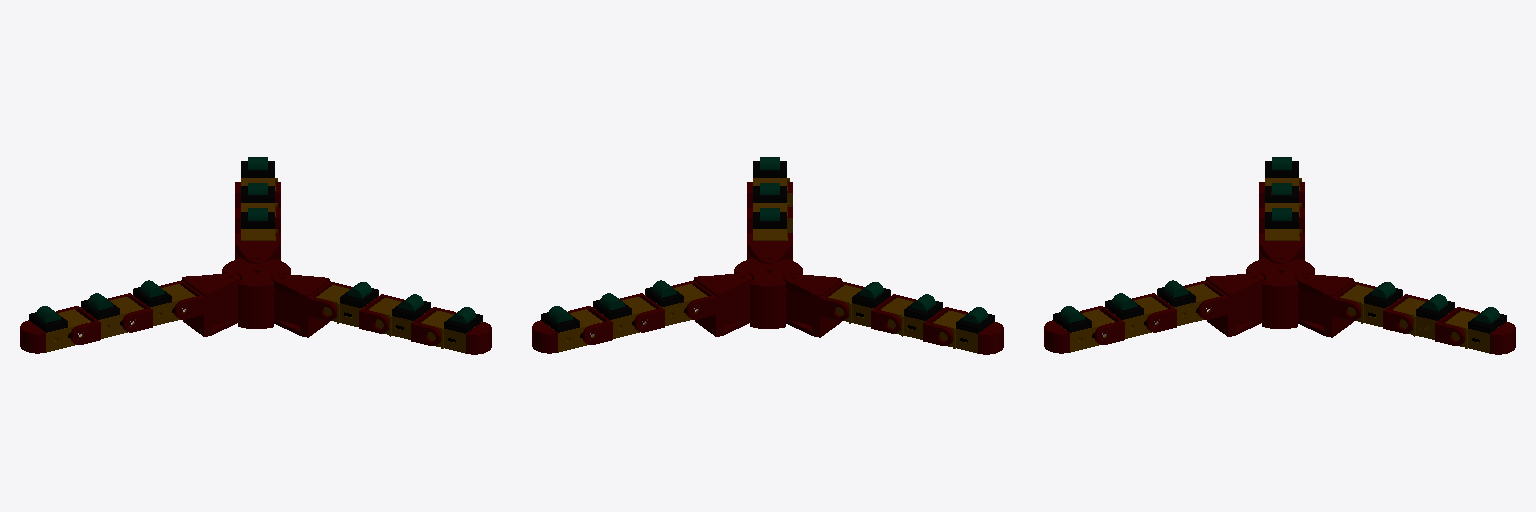
robot.urdf — Space_Gripper_URDF_DAE:
<?xml version="1.0" ?>
<robot name="Space_Gripper_URDF_DAE">

<link name="base_link">
  <inertial>
    <origin xyz="0.2824084412039216 -0.01747868073746133 -0.008955658350251127" rpy="0 0 0"/>
    <mass value="0.19686239672755595"/>
    <inertia ixx="0.00014285242604510797" iyy="0.00014289312332895626" izz="0.0002203151480814937" ixy="-1.4233796433171797e-13" iyz="-5.3266947601902925e-14" ixz="4.087505542588535e-09"/>
  </inertial>
  <visual>
    <origin xyz="0 0 0" rpy="0 0 0"/>
    <geometry>
      <mesh filename="meshes/base_link.dae" scale="0.001 0.001 0.001"/>

  </geometry>
</visual>
  <collision>
    <origin xyz="0 0 0" rpy="0 0 0"/>
    <geometry>
      <mesh filename="meshes/base_link.dae" scale="0.001 0.001 0.001"/>
    </geometry>
  </collision>
</link>

<link name="finger_link111">
  <inertial>
    <origin xyz="-0.018205227017697667 0.00015866735729531262 0.0019933440227124246" rpy="0 0 0"/>
    <mass value="0.058757815724503226"/>
    <inertia ixx="1.2086298377185494e-05" iyy="2.5715164283030044e-05" izz="2.879228567865405e-05" ixy="2.2279874047472035e-07" iyz="-5.4872261887554326e-08" ixz="1.5145439632609564e-06"/>
  </inertial>
  <visual>
    <origin xyz="-0.18625 0.015983 -0.002636" rpy="0 0 0"/>
    <geometry>
      <mesh filename="meshes/finger_link111.dae" scale="0.001 0.001 0.001"/>

  </geometry>
</visual>
  <collision>
    <origin xyz="-0.18625 0.015983 -0.002636" rpy="0 0 0"/>
    <geometry>
      <mesh filename="meshes/finger_link111.dae" scale="0.001 0.001 0.001"/>
    </geometry>
  </collision>
</link>

<link name="finger_link121">
  <inertial>
    <origin xyz="-0.01820463486106834 0.00015866628118000464 0.001993344022712669" rpy="0 0 0"/>
    <mass value="0.05875781572450322"/>
    <inertia ixx="1.2086298377186012e-05" iyy="2.571516428301183e-05" izz="2.8792285678610357e-05" ixy="2.2279874047543863e-07" iyz="-5.4872261887839776e-08" ixz="1.5145439632596588e-06"/>
  </inertial>
  <visual>
    <origin xyz="-0.12573 0.015983 -0.002636" rpy="0 0 0"/>
    <geometry>
      <mesh filename="meshes/finger_link121.dae" scale="0.001 0.001 0.001"/>

  </geometry>
</visual>
  <collision>
    <origin xyz="-0.12573 0.015983 -0.002636" rpy="0 0 0"/>
    <geometry>
      <mesh filename="meshes/finger_link121.dae" scale="0.001 0.001 0.001"/>
    </geometry>
  </collision>
</link>

<link name="finger_link311">
  <inertial>
    <origin xyz="0.009239967439434893 0.015687081058691682 0.0019933440227124254" rpy="0 0 0"/>
    <mass value="0.058757815724503115"/>
    <inertia ixx="2.2114998447879657e-05" iyy="1.5686464226054297e-05" izz="2.8792285692595156e-05" ixy="-6.012871425806199e-06" iyz="-1.2841974334595889e-06" ixz="-8.047927642447679e-07"/>
  </inertial>
  <visual>
    <origin xyz="-0.331752 -0.065031 -0.002636" rpy="0 0 0"/>
    <geometry>
      <mesh filename="meshes/finger_link311.dae" scale="0.001 0.001 0.001"/>

  </geometry>
</visual>
  <collision>
    <origin xyz="-0.331752 -0.065031 -0.002636" rpy="0 0 0"/>
    <geometry>
      <mesh filename="meshes/finger_link311.dae" scale="0.001 0.001 0.001"/>
    </geometry>
  </collision>
</link>

<link name="finger_link321">
  <inertial>
    <origin xyz="0.009239670429177227 0.015686426211100155 0.001993344022712691" rpy="0 0 0"/>
    <mass value="0.05875781572450316"/>
    <inertia ixx="2.2114998447879657e-05" iyy="1.5686464226057767e-05" izz="2.8792285692599492e-05" ixy="-6.0128714258079335e-06" iyz="-1.2841974334595448e-06" ixz="-8.047927642447679e-07"/>
  </inertial>
  <visual>
    <origin xyz="-0.362012 -0.117443 -0.002636" rpy="0 0 0"/>
    <geometry>
      <mesh filename="meshes/finger_link321.dae" scale="0.001 0.001 0.001"/>

  </geometry>
</visual>
  <collision>
    <origin xyz="-0.362012 -0.117443 -0.002636" rpy="0 0 0"/>
    <geometry>
      <mesh filename="meshes/finger_link321.dae" scale="0.001 0.001 0.001"/>
    </geometry>
  </collision>
</link>

<link name="finger_link211">
  <inertial>
    <origin xyz="0.008964553001198305 -0.0158457897051294 0.001993344022712414" rpy="0 0 0"/>
    <mass value="0.05875781572450313"/>
    <inertia ixx="2.250089717573448e-05" iyy="1.530056548438609e-05" izz="2.8792285678780685e-05" ixy="5.7900726794343944e-06" iyz="1.3390696782788821e-06" ixz="-7.097512088737208e-07"/>
  </inertial>
  <visual>
    <origin xyz="-0.329162 0.101484 -0.002636" rpy="0 0 0"/>
    <geometry>
      <mesh filename="meshes/finger_link211.dae" scale="0.001 0.001 0.001"/>

  </geometry>
</visual>
  <collision>
    <origin xyz="-0.329162 0.101484 -0.002636" rpy="0 0 0"/>
    <geometry>
      <mesh filename="meshes/finger_link211.dae" scale="0.001 0.001 0.001"/>
    </geometry>
  </collision>
</link>

<link name="finger_link221">
  <inertial>
    <origin xyz="0.008965257854827213 -0.01584513378142255 0.0019933440227126796" rpy="0 0 0"/>
    <mass value="0.05875781572450321"/>
    <inertia ixx="2.250089717573448e-05" iyy="1.530056548438609e-05" izz="2.879228567878242e-05" ixy="5.790072679435262e-06" iyz="1.3390696782788347e-06" ixz="-7.097512088737615e-07"/>
  </inertial>
  <visual>
    <origin xyz="-0.359421 0.153896 -0.002636" rpy="0 0 0"/>
    <geometry>
      <mesh filename="meshes/finger_link221.dae" scale="0.001 0.001 0.001"/>

  </geometry>
</visual>
  <collision>
    <origin xyz="-0.359421 0.153896 -0.002636" rpy="0 0 0"/>
    <geometry>
      <mesh filename="meshes/finger_link221.dae" scale="0.001 0.001 0.001"/>
    </geometry>
  </collision>
</link>

<link name="palm_link11">
  <inertial>
    <origin xyz="-0.033808036955607745 0.0003209242466304836 0.004859626131341327" rpy="0 0 0"/>
    <mass value="0.04512002505288437"/>
    <inertia ixx="1.955569656739964e-05" iyy="2.2266615430205448e-05" izz="1.8449937761857993e-05" ixy="2.5455755867535086e-07" iyz="-1.2175243086354105e-07" ixz="8.540751990812511e-07"/>
  </inertial>
  <visual>
    <origin xyz="-0.252173 0.016479 0.010014" rpy="0 0 0"/>
    <geometry>
      <mesh filename="meshes/palm_link11.dae" scale="0.001 0.001 0.001"/>

  </geometry>
</visual>
  <collision>
    <origin xyz="-0.252173 0.016479 0.010014" rpy="0 0 0"/>
    <geometry>
      <mesh filename="meshes/palm_link11.dae" scale="0.001 0.001 0.001"/>
    </geometry>
  </collision>
</link>

<link name="palm_link31">
  <inertial>
    <origin xyz="0.017181842395234237 0.029118389688091016 0.00485962613541978" rpy="0 0 0"/>
    <mass value="0.04512002511118017"/>
    <inertia ixx="2.136843242511441e-05" iyy="2.0453879616765848e-05" izz="1.8449937789699437e-05" ixy="-1.3011410833712158e-06" iyz="-6.787746076151967e-07" ixz="-5.324782961754261e-07"/>
  </inertial>
  <visual>
    <origin xyz="-0.298361 -0.008188 0.010014" rpy="0 0 0"/>
    <geometry>
      <mesh filename="meshes/palm_link31.dae" scale="0.001 0.001 0.001"/>

  </geometry>
</visual>
  <collision>
    <origin xyz="-0.298361 -0.008188 0.010014" rpy="0 0 0"/>
    <geometry>
      <mesh filename="meshes/palm_link31.dae" scale="0.001 0.001 0.001"/>
    </geometry>
  </collision>
</link>

<link name="palm_link21">
  <inertial>
    <origin xyz="0.016626487983982474 -0.029438355242833773 0.004859626135419766" rpy="0 0 0"/>
    <mass value="0.04512002511118007"/>
    <inertia ixx="2.180933905096083e-05" iyy="2.0012972990917678e-05" izz="1.8449937789695968e-05" ixy="1.0465835242510439e-06" iyz="8.005270352593836e-07" ixz="-3.215969055509328e-07"/>
  </inertial>
  <visual>
    <origin xyz="-0.296629 0.044146 0.010014" rpy="0 0 0"/>
    <geometry>
      <mesh filename="meshes/palm_link21.dae" scale="0.001 0.001 0.001"/>

  </geometry>
</visual>
  <collision>
    <origin xyz="-0.296629 0.044146 0.010014" rpy="0 0 0"/>
    <geometry>
      <mesh filename="meshes/palm_link21.dae" scale="0.001 0.001 0.001"/>
    </geometry>
  </collision>
</link>

<link name="finger_link331">
  <inertial>
    <origin xyz="0.006580644907470845 0.010213337766440012 0.0006812023715423755" rpy="0 0 0"/>
    <mass value="0.16517380192142656"/>
    <inertia ixx="3.569351063319615e-05" iyy="2.5648158742050398e-05" izz="4.740029969131643e-05" ixy="-8.28223425292443e-06" iyz="-1.4431304438412276e-06" ixz="-8.488219023201991e-07"/>
  </inertial>
  <visual>
    <origin xyz="-0.392271 -0.169854 -0.002636" rpy="0 0 0"/>
    <geometry>
      <mesh filename="meshes/finger_link331.dae" scale="0.001 0.001 0.001"/>

  </geometry>
</visual>
  <collision>
    <origin xyz="-0.392271 -0.169854 -0.002636" rpy="0 0 0"/>
    <geometry>
      <mesh filename="meshes/finger_link331.dae" scale="0.001 0.001 0.001"/>
    </geometry>
  </collision>
</link>

<link name="finger_link231">
  <inertial>
    <origin xyz="0.005554694432288676 -0.010805368616512767 0.0006812023713554795" rpy="0 0 0"/>
    <mass value="0.1651738019238477"/>
    <inertia ixx="3.5332121978338786e-05" iyy="2.6009547398075233e-05" izz="4.7400299691961745e-05" ixy="8.490882090362445e-06" iyz="1.4566665525227114e-06" ixz="-8.25376673711922e-07"/>
  </inertial>
  <visual>
    <origin xyz="-0.389681 0.206307 -0.002636" rpy="0 0 0"/>
    <geometry>
      <mesh filename="meshes/finger_link231.dae" scale="0.001 0.001 0.001"/>

  </geometry>
</visual>
  <collision>
    <origin xyz="-0.389681 0.206307 -0.002636" rpy="0 0 0"/>
    <geometry>
      <mesh filename="meshes/finger_link231.dae" scale="0.001 0.001 0.001"/>
    </geometry>
  </collision>
</link>

<link name="finger_link131">
  <inertial>
    <origin xyz="-0.01213504592562506 0.0005919895453446421 0.0006812023713554834" rpy="0 0 0"/>
    <mass value="0.16517380192384765"/>
    <inertia ixx="2.0986871452349138e-05" iyy="4.035479792407093e-05" izz="4.740029969198473e-05" ixy="-2.086478375921334e-07" iyz="-1.3536109135468065e-08" ixz="1.6741985761834893e-06"/>
  </inertial>
  <visual>
    <origin xyz="-0.065211 0.015983 -0.002636" rpy="0 0 0"/>
    <geometry>
      <mesh filename="meshes/finger_link131.dae" scale="0.001 0.001 0.001"/>

  </geometry>
</visual>
  <collision>
    <origin xyz="-0.065211 0.015983 -0.002636" rpy="0 0 0"/>
    <geometry>
      <mesh filename="meshes/finger_link131.dae" scale="0.001 0.001 0.001"/>
    </geometry>
  </collision>
</link>

<joint name="finger_joint_1_1" type="revolute">
  <origin xyz="-0.065923 0.000496 0.01265" rpy="0 0 0"/>
  <parent link="palm_link11"/>
  <child link="finger_link111"/>
  <axis xyz="-0.0 -1.0 0.0"/>
  <limit upper="0.0" lower="-1.570796" effort="100" velocity="100"/>
</joint>
<transmission name="finger_joint_1_1_tran">
  <type>transmission_interface/SimpleTransmission</type>
  <joint name="finger_joint_1_1">
    <hardwareInterface>PositionJointInterface</hardwareInterface>
  </joint>
  <actuator name="finger_joint_1_1_actr">
    <hardwareInterface>PositionJointInterface</hardwareInterface>
    <mechanicalReduction>1</mechanicalReduction>
  </actuator>
</transmission>

<joint name="finger_joint_1_2" type="revolute">
  <origin xyz="-0.06052 0.0 0.0" rpy="0 0 0"/>
  <parent link="finger_link111"/>
  <child link="finger_link121"/>
  <axis xyz="0.0 1.0 0.0"/>
  <limit upper="1.570796" lower="0.0" effort="100" velocity="100"/>
</joint>
<transmission name="finger_joint_1_2_tran">
  <type>transmission_interface/SimpleTransmission</type>
  <joint name="finger_joint_1_2">
    <hardwareInterface>PositionJointInterface</hardwareInterface>
  </joint>
  <actuator name="finger_joint_1_2_actr">
    <hardwareInterface>PositionJointInterface</hardwareInterface>
    <mechanicalReduction>1</mechanicalReduction>
  </actuator>
</transmission>

<joint name="finger_joint_3_1" type="revolute">
  <origin xyz="0.033391 0.056843 0.01265" rpy="0 0 0"/>
  <parent link="palm_link31"/>
  <child link="finger_link311"/>
  <axis xyz="-0.866025 0.5 0.0"/>
  <limit upper="0.0" lower="-1.570796" effort="100" velocity="100"/>
</joint>
<transmission name="finger_joint_3_1_tran">
  <type>transmission_interface/SimpleTransmission</type>
  <joint name="finger_joint_3_1">
    <hardwareInterface>PositionJointInterface</hardwareInterface>
  </joint>
  <actuator name="finger_joint_3_1_actr">
    <hardwareInterface>PositionJointInterface</hardwareInterface>
    <mechanicalReduction>1</mechanicalReduction>
  </actuator>
</transmission>

<joint name="finger_joint_3_2" type="revolute">
  <origin xyz="0.03026 0.052412 0.0" rpy="0 0 0"/>
  <parent link="finger_link311"/>
  <child link="finger_link321"/>
  <axis xyz="-0.866025 0.5 -0.0"/>
  <limit upper="0.0" lower="-1.570796" effort="100" velocity="100"/>
</joint>
<transmission name="finger_joint_3_2_tran">
  <type>transmission_interface/SimpleTransmission</type>
  <joint name="finger_joint_3_2">
    <hardwareInterface>PositionJointInterface</hardwareInterface>
  </joint>
  <actuator name="finger_joint_3_2_actr">
    <hardwareInterface>PositionJointInterface</hardwareInterface>
    <mechanicalReduction>1</mechanicalReduction>
  </actuator>
</transmission>

<joint name="finger_joint_2_1" type="revolute">
  <origin xyz="0.032533 -0.057338 0.01265" rpy="0 0 0"/>
  <parent link="palm_link21"/>
  <child link="finger_link211"/>
  <axis xyz="-0.866025 -0.5 -0.0"/>
  <limit upper="1.570796" lower="0.0" effort="100" velocity="100"/>
</joint>
<transmission name="finger_joint_2_1_tran">
  <type>transmission_interface/SimpleTransmission</type>
  <joint name="finger_joint_2_1">
    <hardwareInterface>PositionJointInterface</hardwareInterface>
  </joint>
  <actuator name="finger_joint_2_1_actr">
    <hardwareInterface>PositionJointInterface</hardwareInterface>
    <mechanicalReduction>1</mechanicalReduction>
  </actuator>
</transmission>

<joint name="finger_joint_2_2" type="revolute">
  <origin xyz="0.030259 -0.052412 0.0" rpy="0 0 0"/>
  <parent link="finger_link211"/>
  <child link="finger_link221"/>
  <axis xyz="-0.866025 -0.5 0.0"/>
  <limit upper="1.570796" lower="0.0" effort="100" velocity="100"/>
</joint>
<transmission name="finger_joint_2_2_tran">
  <type>transmission_interface/SimpleTransmission</type>
  <joint name="finger_joint_2_2">
    <hardwareInterface>PositionJointInterface</hardwareInterface>
  </joint>
  <actuator name="finger_joint_2_2_actr">
    <hardwareInterface>PositionJointInterface</hardwareInterface>
    <mechanicalReduction>1</mechanicalReduction>
  </actuator>
</transmission>

<joint name="palm_joint_1" type="revolute">
  <origin xyz="0.252173 -0.016479 -0.010014" rpy="0 0 0"/>
  <parent link="base_link"/>
  <child link="palm_link11"/>
  <axis xyz="-0.0 0.0 1.0"/>
  <limit upper="0.523599" lower="-0.523599" effort="100" velocity="100"/>
</joint>
<transmission name="palm_joint_1_tran">
  <type>transmission_interface/SimpleTransmission</type>
  <joint name="palm_joint_1">
    <hardwareInterface>PositionJointInterface</hardwareInterface>
  </joint>
  <actuator name="palm_joint_1_actr">
    <hardwareInterface>PositionJointInterface</hardwareInterface>
    <mechanicalReduction>1</mechanicalReduction>
  </actuator>
</transmission>

<joint name="palm_joint_2" type="revolute">
  <origin xyz="0.298361 0.008188 -0.010014" rpy="0 0 0"/>
  <parent link="base_link"/>
  <child link="palm_link31"/>
  <axis xyz="-0.0 0.0 -1.0"/>
  <limit upper="0.523599" lower="-0.523599" effort="100" velocity="100"/>
</joint>
<transmission name="palm_joint_2_tran">
  <type>transmission_interface/SimpleTransmission</type>
  <joint name="palm_joint_2">
    <hardwareInterface>PositionJointInterface</hardwareInterface>
  </joint>
  <actuator name="palm_joint_2_actr">
    <hardwareInterface>PositionJointInterface</hardwareInterface>
    <mechanicalReduction>1</mechanicalReduction>
  </actuator>
</transmission>

<joint name="palm_joint_3" type="revolute">
  <origin xyz="0.296629 -0.044146 -0.010014" rpy="0 0 0"/>
  <parent link="base_link"/>
  <child link="palm_link21"/>
  <axis xyz="-0.0 -0.0 1.0"/>
  <limit upper="0.523599" lower="-0.523599" effort="100" velocity="100"/>
</joint>
<transmission name="palm_joint_3_tran">
  <type>transmission_interface/SimpleTransmission</type>
  <joint name="palm_joint_3">
    <hardwareInterface>PositionJointInterface</hardwareInterface>
  </joint>
  <actuator name="palm_joint_3_actr">
    <hardwareInterface>PositionJointInterface</hardwareInterface>
    <mechanicalReduction>1</mechanicalReduction>
  </actuator>
</transmission>

<joint name="finger_joint_3_3" type="revolute">
  <origin xyz="0.030259 0.052411 0.0" rpy="0 0 0"/>
  <parent link="finger_link321"/>
  <child link="finger_link331"/>
  <axis xyz="0.866025 -0.5 0.0"/>
  <limit upper="1.570796" lower="-1.570796" effort="100" velocity="100"/>
</joint>
<transmission name="finger_joint_3_3_tran">
  <type>transmission_interface/SimpleTransmission</type>
  <joint name="finger_joint_3_3">
    <hardwareInterface>PositionJointInterface</hardwareInterface>
  </joint>
  <actuator name="finger_joint_3_3_actr">
    <hardwareInterface>PositionJointInterface</hardwareInterface>
    <mechanicalReduction>1</mechanicalReduction>
  </actuator>
</transmission>

<joint name="finger_joint_2_3" type="revolute">
  <origin xyz="0.03026 -0.052411 0.0" rpy="0 0 0"/>
  <parent link="finger_link221"/>
  <child link="finger_link231"/>
  <axis xyz="-0.866025 -0.5 0.0"/>
  <limit upper="1.570796" lower="-1.570796" effort="100" velocity="100"/>
</joint>
<transmission name="finger_joint_2_3_tran">
  <type>transmission_interface/SimpleTransmission</type>
  <joint name="finger_joint_2_3">
    <hardwareInterface>PositionJointInterface</hardwareInterface>
  </joint>
  <actuator name="finger_joint_2_3_actr">
    <hardwareInterface>PositionJointInterface</hardwareInterface>
    <mechanicalReduction>1</mechanicalReduction>
  </actuator>
</transmission>

<joint name="finger_joint_1_3" type="revolute">
  <origin xyz="-0.060519 0.0 0.0" rpy="0 0 0"/>
  <parent link="finger_link121"/>
  <child link="finger_link131"/>
  <axis xyz="0.0 1.0 0.0"/>
  <limit upper="1.570796" lower="-1.570796" effort="100" velocity="100"/>
</joint>
<transmission name="finger_joint_1_3_tran">
  <type>transmission_interface/SimpleTransmission</type>
  <joint name="finger_joint_1_3">
    <hardwareInterface>PositionJointInterface</hardwareInterface>
  </joint>
  <actuator name="finger_joint_1_3_actr">
    <hardwareInterface>PositionJointInterface</hardwareInterface>
    <mechanicalReduction>1</mechanicalReduction>
  </actuator>
</transmission>

</robot>

--- Render facts (derived) ---
Views: 3 orthographic renders of the robot side by side, from view 1: azimuth 30°, elevation 25°; view 2: azimuth 150°, elevation 25°; view 3: azimuth 270°, elevation 25°.
Robot: Space_Gripper_URDF_DAE — 13 links, 12 joints (12 revolute); root link base_link; default pose: all joints at 0.
Links seen in each view (by area): view 1: base_link, palm_link11, palm_link21, finger_link231, finger_link131, finger_link221, finger_link121, finger_link211, finger_link111, finger_link311, finger_link321, palm_link31 (+1 smaller); view 2: base_link, palm_link31, palm_link11, finger_link131, finger_link331, finger_link121, finger_link321, finger_link111, finger_link311, finger_link211, finger_link221, palm_link21 (+1 smaller); view 3: base_link, palm_link21, palm_link31, finger_link331, finger_link231, finger_link321, finger_link221, finger_link311, finger_link211, finger_link111, finger_link121, palm_link11 (+1 smaller).
Boxes of the visible links, bbox=[...] form: base_link: bbox=[212, 258, 299, 328]; palm_link11: bbox=[159, 273, 239, 336]; palm_link21: bbox=[272, 274, 352, 337]; finger_link231: bbox=[421, 307, 491, 354]; finger_link131: bbox=[20, 306, 90, 353]; finger_link221: bbox=[369, 294, 455, 345]; finger_link121: bbox=[56, 293, 143, 344]; finger_link211: bbox=[316, 282, 403, 333]; finger_link111: bbox=[108, 280, 195, 332]; finger_link311: bbox=[235, 207, 280, 240]; finger_link321: bbox=[235, 182, 280, 216]; palm_link31: bbox=[235, 233, 280, 263]; base_link: bbox=[724, 258, 811, 328]; palm_link31: bbox=[671, 273, 751, 336]; palm_link11: bbox=[784, 274, 864, 337]; finger_link131: bbox=[933, 307, 1003, 354]; finger_link331: bbox=[532, 306, 602, 353]; finger_link121: bbox=[881, 294, 967, 345]; finger_link321: bbox=[568, 293, 655, 344]; finger_link111: bbox=[828, 282, 915, 333]; finger_link311: bbox=[620, 280, 707, 332]; finger_link211: bbox=[747, 207, 792, 240]; finger_link221: bbox=[747, 182, 792, 216]; palm_link21: bbox=[747, 233, 792, 263]; base_link: bbox=[1236, 258, 1323, 328]; palm_link21: bbox=[1183, 273, 1263, 336]; palm_link31: bbox=[1296, 274, 1376, 337]; finger_link331: bbox=[1445, 307, 1515, 354]; finger_link231: bbox=[1044, 306, 1114, 353]; finger_link321: bbox=[1393, 294, 1479, 345]; finger_link221: bbox=[1080, 293, 1167, 344]; finger_link311: bbox=[1340, 282, 1427, 333]; finger_link211: bbox=[1132, 280, 1219, 332]; finger_link111: bbox=[1259, 207, 1304, 240]; finger_link121: bbox=[1259, 182, 1304, 216]; palm_link11: bbox=[1259, 233, 1304, 263].
Size in the robot's own frame: 0.4179 by 0.4757 by 0.0615 metres.
13 mesh visuals loaded from 13 distinct referenced files (13 Collada DAE).